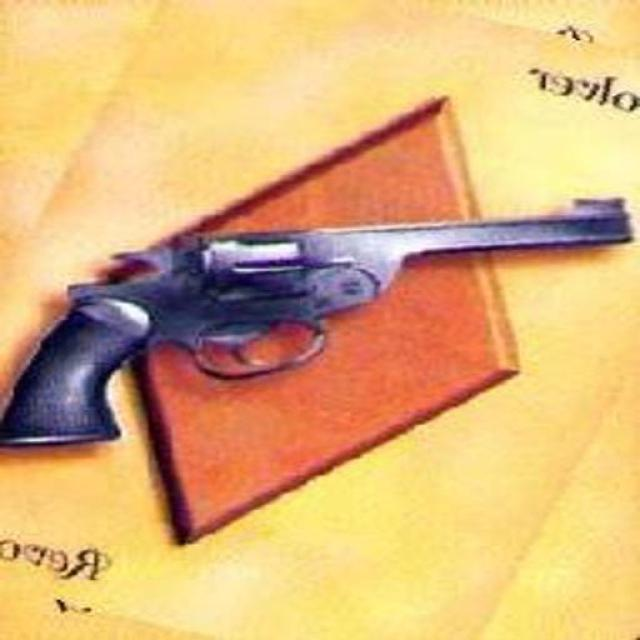pistol: (2, 194, 632, 450)
